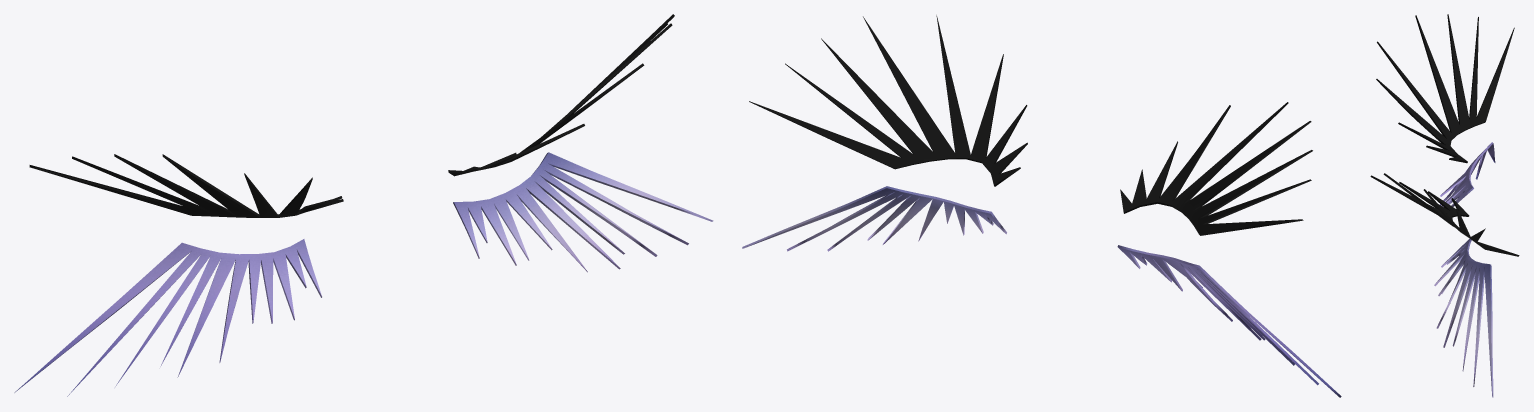
3 views of the same model, side by side, from view 1: azimuth 30°, elevation 25°; view 2: azimuth 150°, elevation 25°; view 3: azimuth 270°, elevation 25° (orthographic). The views are drawn at different scales.
Parts seen in each view (by area): view 1: Wolf3D_Glasses; view 2: Wolf3D_Glasses; view 3: Wolf3D_Glasses.
Part boxes in pixels (left/top/right/bottom): Wolf3D_Glasses: left=14, top=14, right=713, bottom=396; Wolf3D_Glasses: left=742, top=15, right=1341, bottom=397; Wolf3D_Glasses: left=1370, top=14, right=1519, bottom=397.
Size of the model in its own units: 0.1935 by 0.0699 by 0.0516.
Materials: 1 (1 with a texture image).
